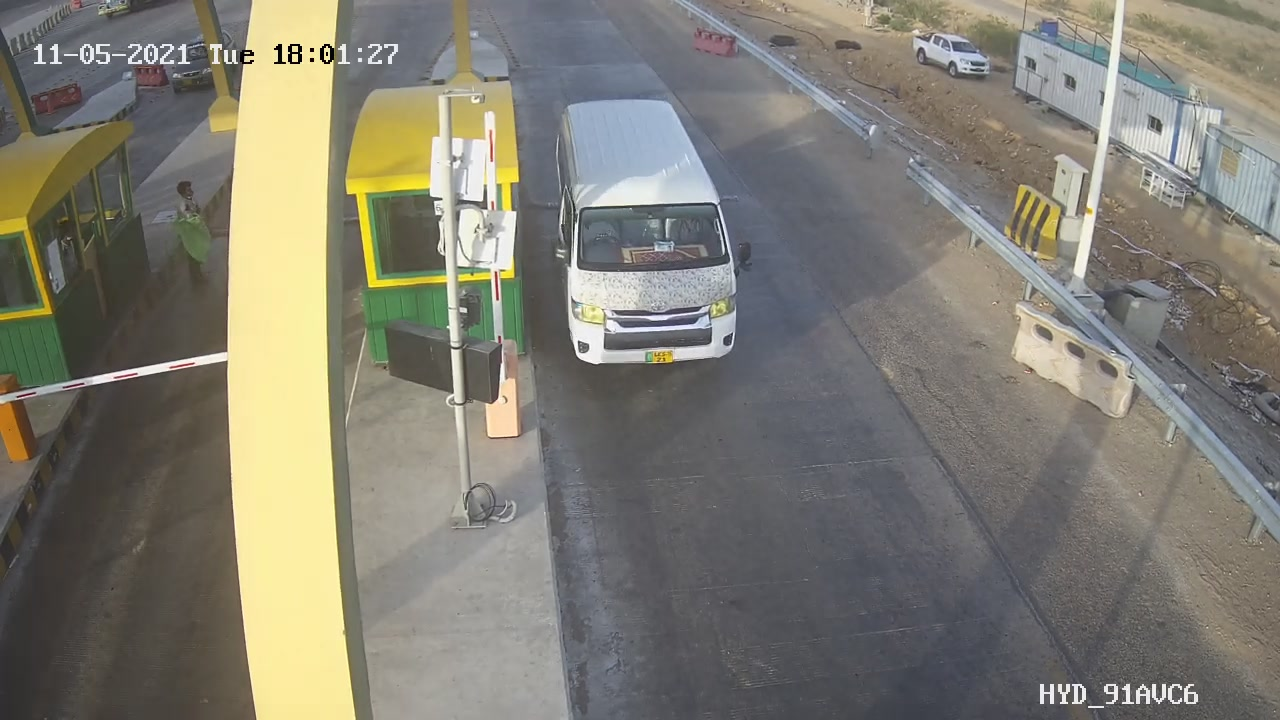F2: (532, 99, 755, 366)
